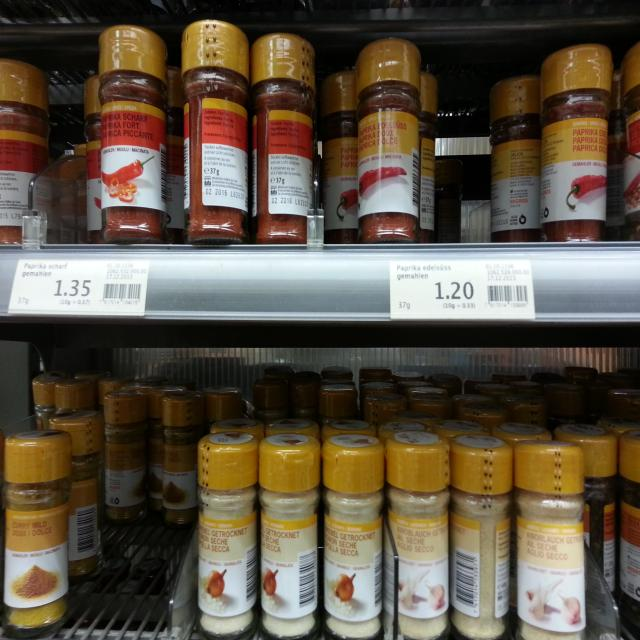Spices: (180, 17, 256, 233), (251, 433, 328, 640), (97, 18, 169, 238), (248, 29, 320, 249), (0, 422, 72, 640), (353, 33, 426, 247), (376, 426, 448, 640), (511, 438, 587, 640), (446, 438, 518, 640), (322, 428, 390, 640), (542, 46, 614, 245), (195, 426, 260, 640), (0, 55, 53, 245), (486, 80, 544, 241), (104, 391, 150, 522), (161, 396, 203, 526)
